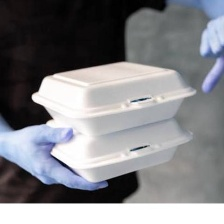foam_box: (27, 57, 198, 140), (39, 101, 195, 183)
